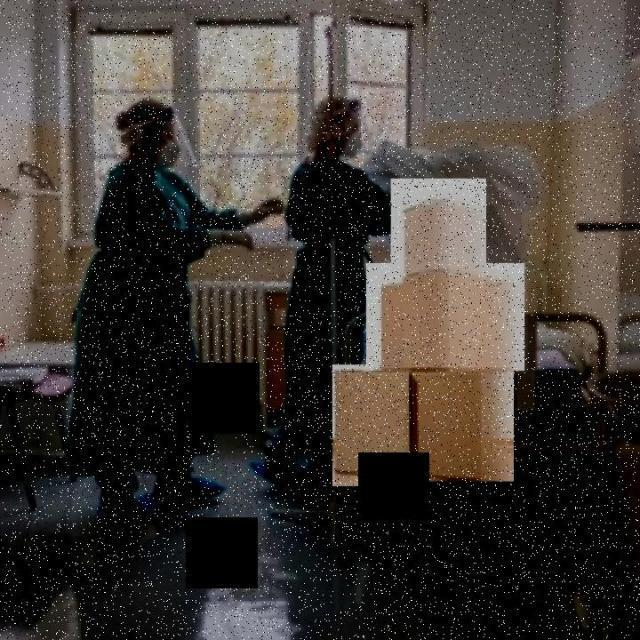box: (364, 262, 528, 374), (407, 367, 517, 484), (389, 178, 489, 292), (332, 363, 412, 489)
